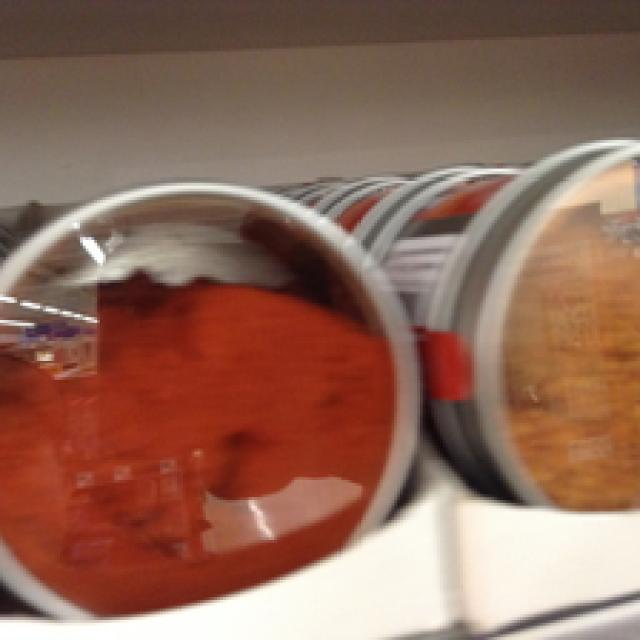groceries: (0, 177, 420, 620), (446, 134, 637, 509)
